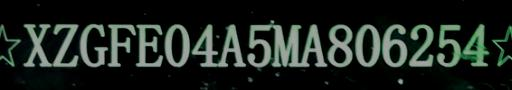letter: (106, 22, 138, 68), (78, 22, 108, 70), (217, 22, 247, 68), (270, 22, 300, 68), (300, 22, 330, 68), (134, 23, 164, 69), (162, 23, 192, 69), (22, 23, 52, 69), (406, 23, 436, 69), (244, 22, 272, 70), (381, 22, 409, 68), (435, 22, 463, 68), (462, 22, 490, 68), (190, 22, 218, 68), (326, 22, 354, 68), (353, 22, 381, 68), (52, 23, 80, 69)
